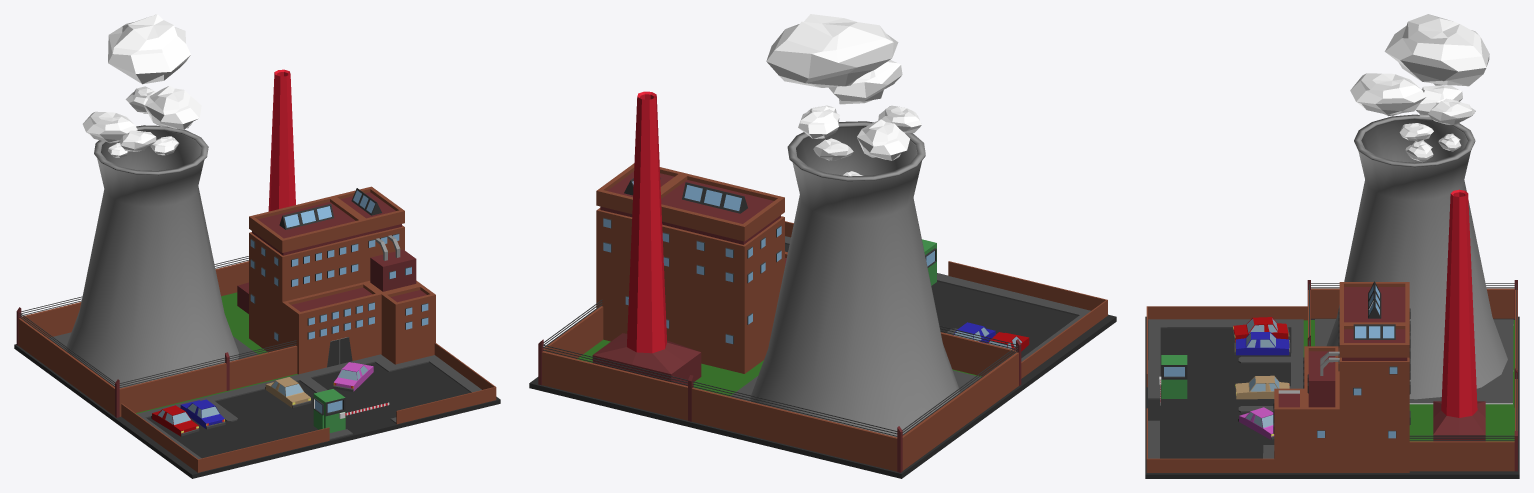
Rendered from coal_plant_model.fbx.
3 renders of one model, left to right at view 1: azimuth 30°, elevation 25°; view 2: azimuth 150°, elevation 25°; view 3: azimuth 270°, elevation 25°, orthographic. The views are drawn at different scales.
Visible parts, largest first — view 1: DIV_T3_16_PERRONE_01, DIV_T3_16_PERRONE_01.001, Sphere.007, Sphere.002, Sphere.005, Car.003, Car.001, Car, Car.002, Sphere.006; view 2: DIV_T3_16_PERRONE_01, DIV_T3_16_PERRONE_01.001, Sphere.007, Sphere.002, Sphere.005, Sphere.001, Sphere.006, Sphere; view 3: DIV_T3_16_PERRONE_01, DIV_T3_16_PERRONE_01.001, Sphere.007, Sphere.002, Car, Car.001, Sphere.001, Car.003, Sphere.005, Car.002, Sphere.004, Sphere.
Boxes of the visible parts, x1=… form: DIV_T3_16_PERRONE_01: x1=16, y1=69, x2=496, y2=472; DIV_T3_16_PERRONE_01.001: x1=14, y1=292, x2=500, y2=478; Sphere.007: x1=108, y1=14, x2=190, y2=84; Sphere.002: x1=144, y1=85, x2=201, y2=129; Sphere.005: x1=82, y1=111, x2=137, y2=143; Car.003: x1=151, y1=405, x2=199, y2=436; Car.001: x1=265, y1=377, x2=311, y2=408; Car: x1=180, y1=399, x2=225, y2=429; Car.002: x1=333, y1=362, x2=373, y2=391; Sphere.006: x1=120, y1=130, x2=156, y2=151; DIV_T3_16_PERRONE_01: x1=538, y1=91, x2=1107, y2=472; DIV_T3_16_PERRONE_01.001: x1=529, y1=244, x2=1116, y2=478; Sphere.007: x1=766, y1=14, x2=898, y2=87; Sphere.002: x1=829, y1=59, x2=902, y2=104; Sphere.005: x1=857, y1=119, x2=909, y2=160; Sphere.001: x1=798, y1=106, x2=839, y2=138; Sphere.006: x1=878, y1=105, x2=921, y2=133; Sphere: x1=813, y1=138, x2=853, y2=160; DIV_T3_16_PERRONE_01: x1=1146, y1=114, x2=1517, y2=472; DIV_T3_16_PERRONE_01.001: x1=1145, y1=316, x2=1519, y2=478; Sphere.007: x1=1384, y1=14, x2=1489, y2=86; Sphere.002: x1=1350, y1=73, x2=1426, y2=116; Car: x1=1234, y1=332, x2=1290, y2=355; Car.001: x1=1235, y1=375, x2=1290, y2=399; Sphere.001: x1=1428, y1=98, x2=1475, y2=124; Car.003: x1=1232, y1=317, x2=1290, y2=341; Sphere.005: x1=1415, y1=85, x2=1462, y2=116; Car.002: x1=1238, y1=407, x2=1274, y2=439; Sphere.004: x1=1399, y1=123, x2=1433, y2=141; Sphere: x1=1405, y1=140, x2=1433, y2=162.
Bounding box in the file's own units: 400 × 408 × 400.
